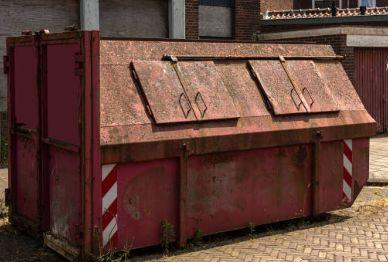metal: (5, 28, 376, 259)
